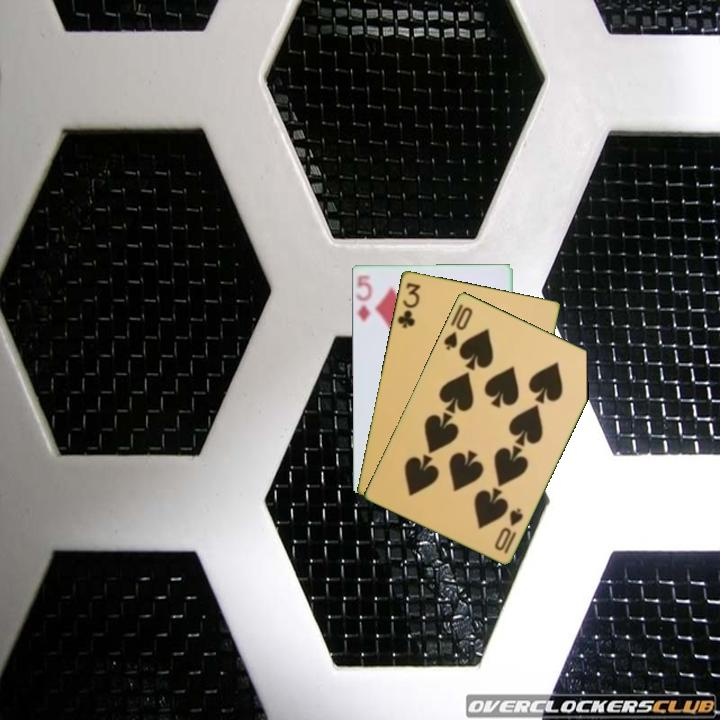10s: (491, 504, 526, 556), (440, 303, 475, 353)
3c: (393, 279, 423, 331)
5d: (353, 272, 375, 325)
